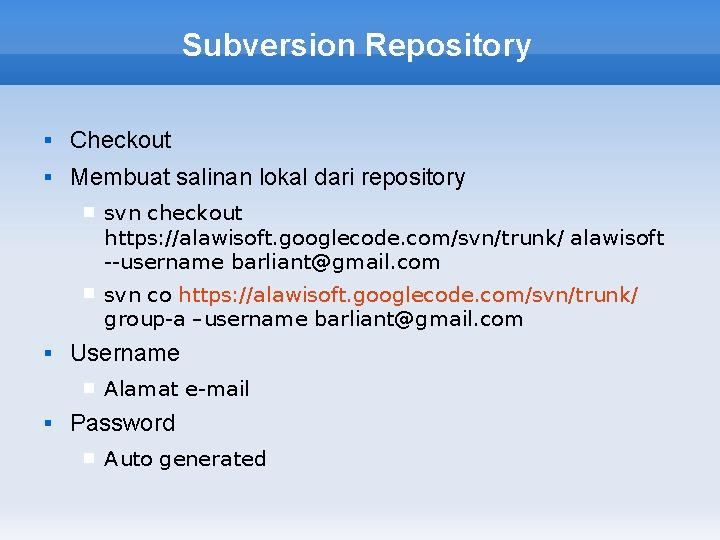paragraph: (32, 116, 707, 497)
title: (173, 14, 556, 74)
